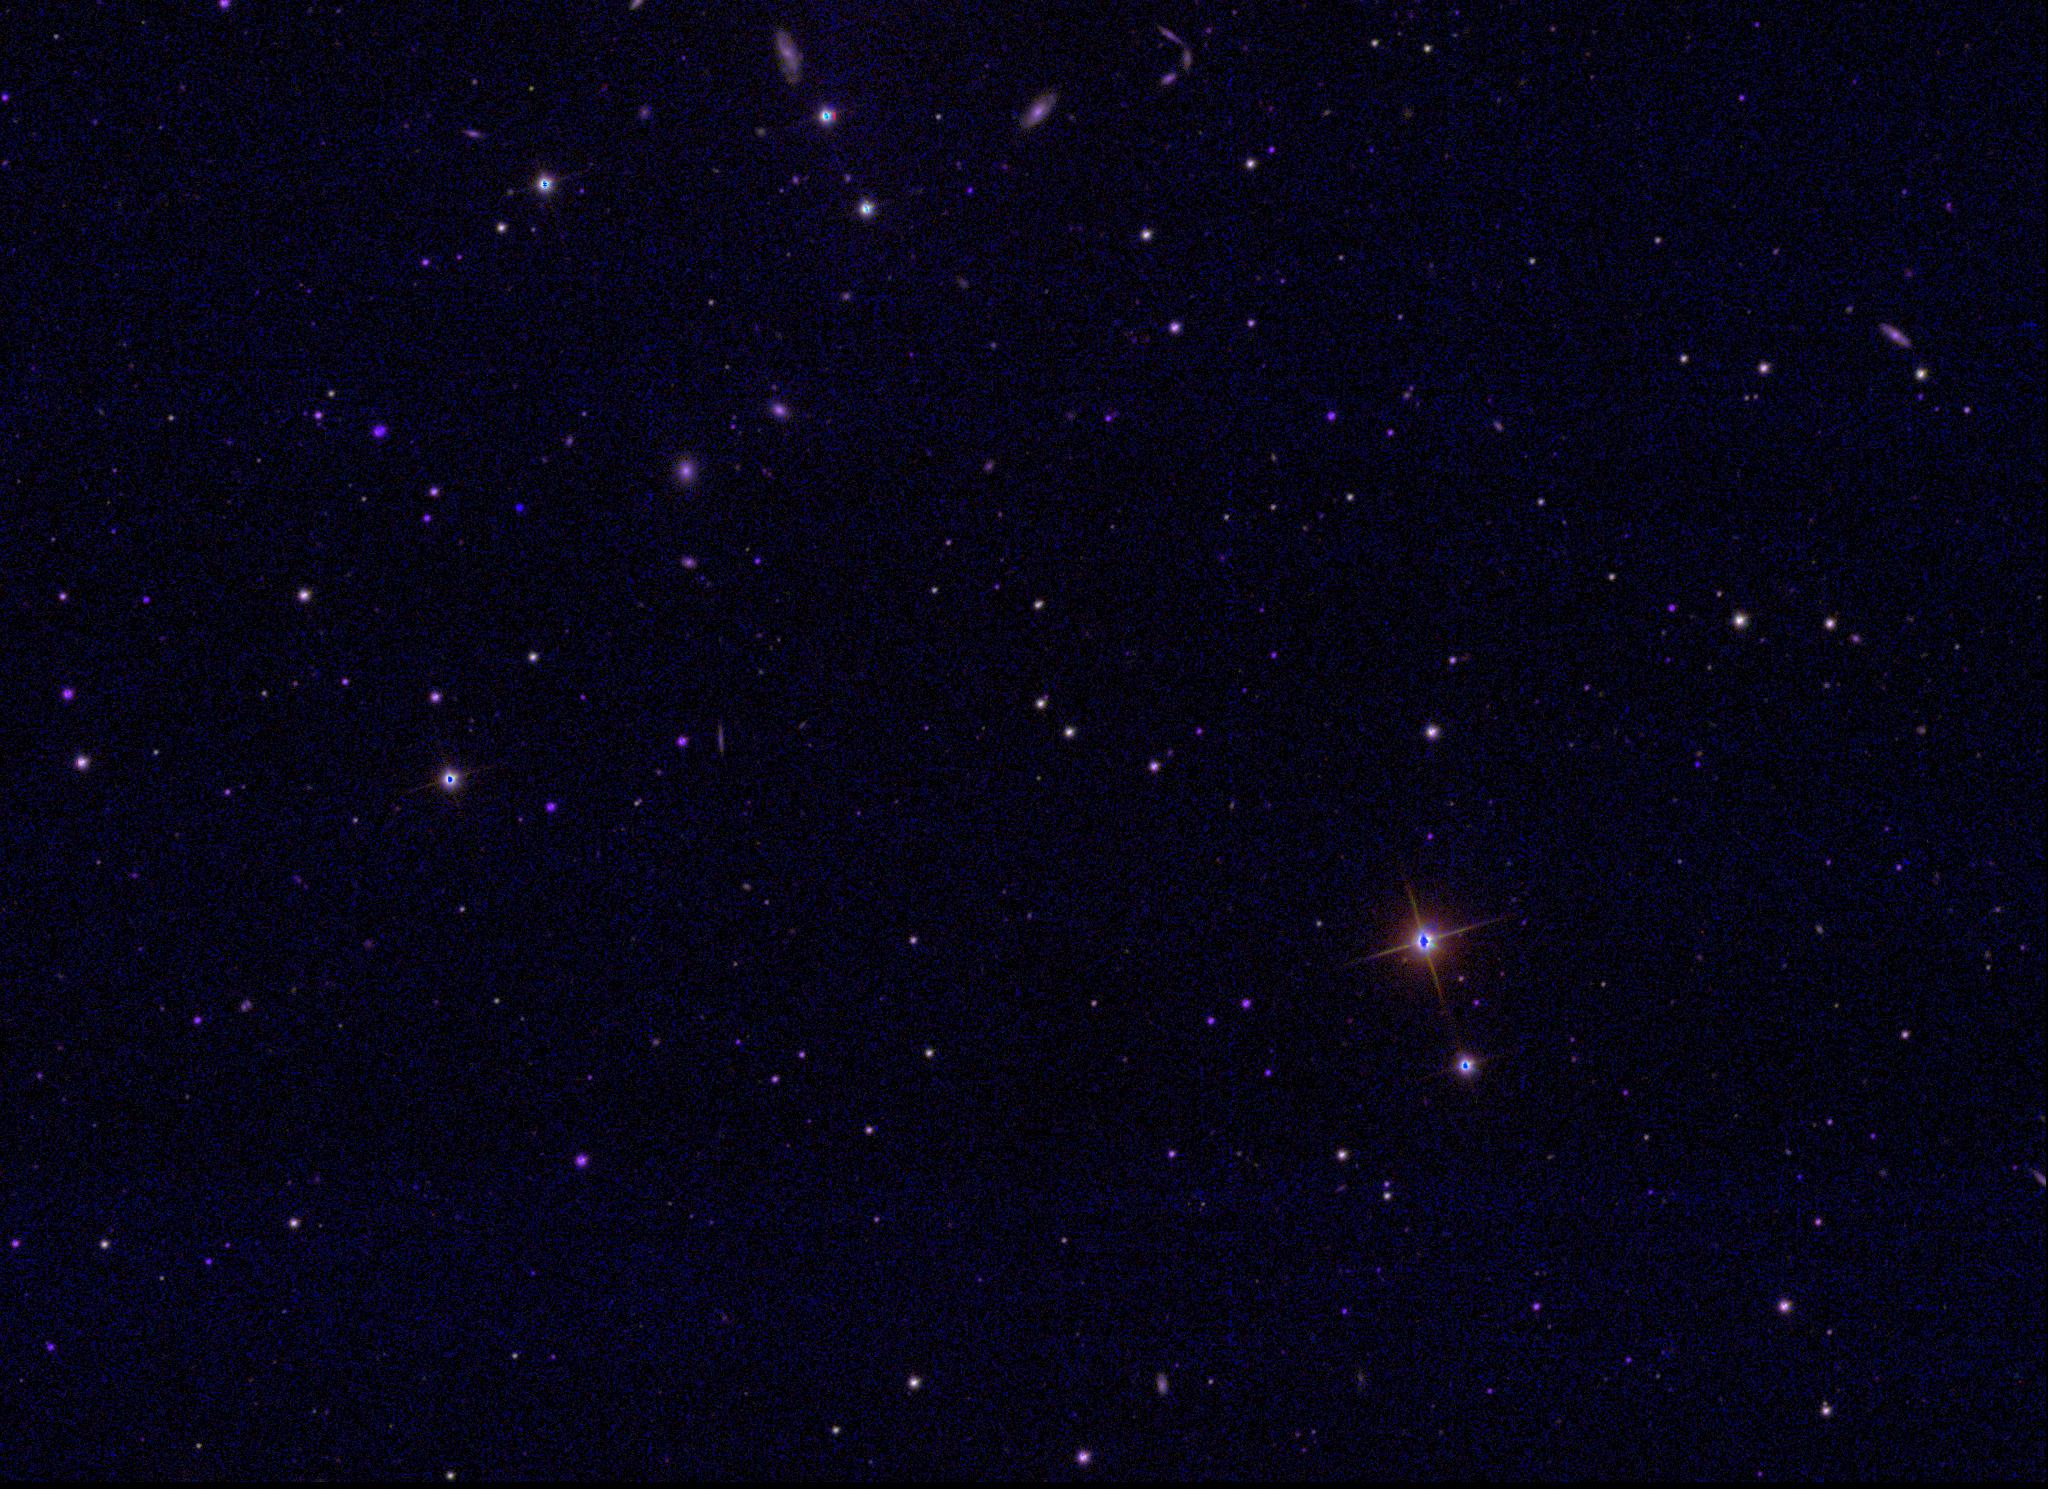L: (512, 496, 526, 511)
